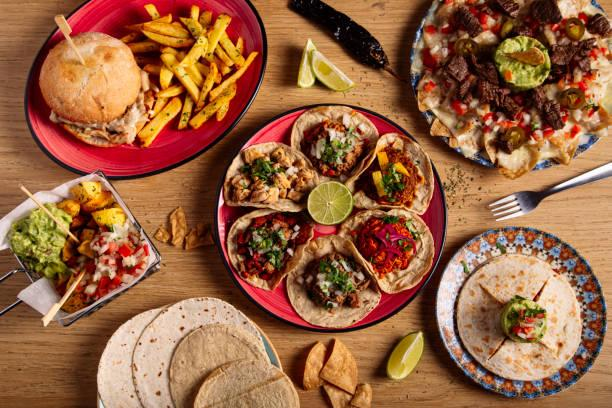Braised Crucian Carp: (214, 104, 441, 331), (27, 1, 262, 180), (413, 0, 606, 173), (435, 226, 605, 399), (5, 169, 161, 326), (97, 297, 283, 408)
